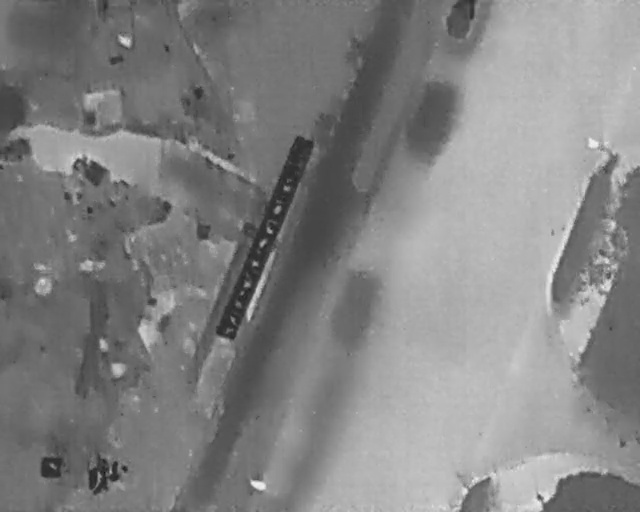Car: (443, 0, 480, 40)
